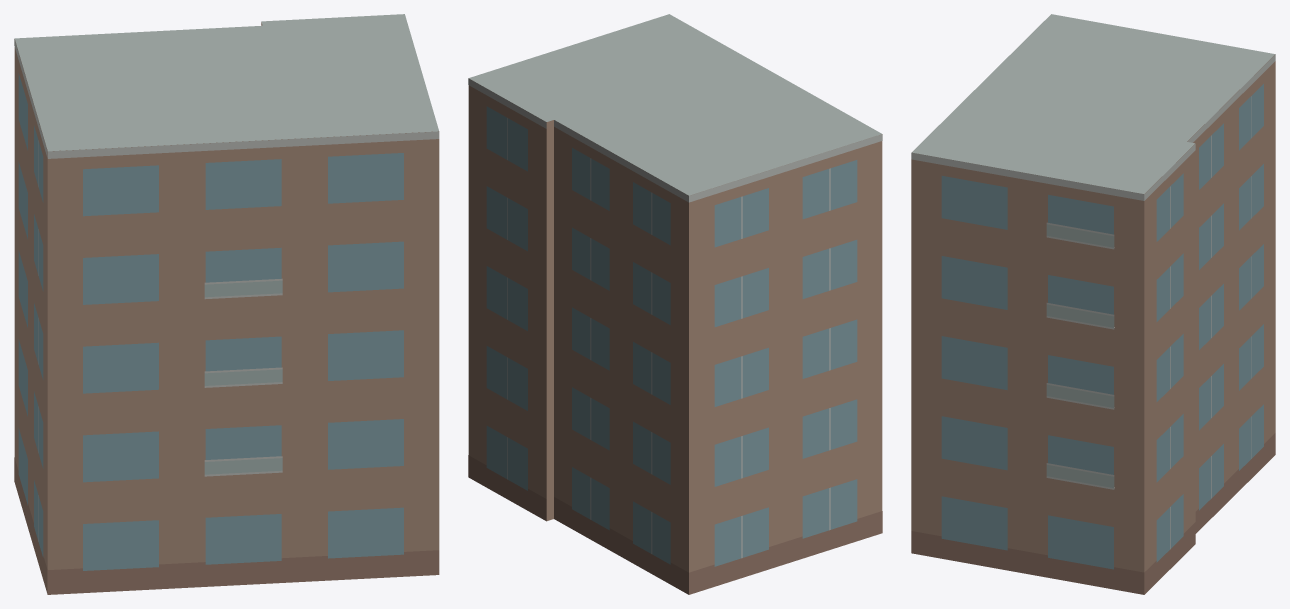
The model's file is survey-upis-32616061.glb.
3 renders of one model, left to right at view 1: azimuth 30°, elevation 25°; view 2: azimuth 150°, elevation 25°; view 3: azimuth 270°, elevation 25°, orthographic. The views are drawn at different scales.
Parts seen in each view (by area): view 1: survey-upis-32616061.tmp; view 2: survey-upis-32616061.tmp; view 3: survey-upis-32616061.tmp.
Part boxes in pixels (left/top/right/bottom): survey-upis-32616061.tmp: left=14, top=14, right=439, bottom=594; survey-upis-32616061.tmp: left=468, top=14, right=882, bottom=594; survey-upis-32616061.tmp: left=911, top=14, right=1275, bottom=594.
Bounding box in the file's own units: 13.7 × 14.2 × 11.7.
